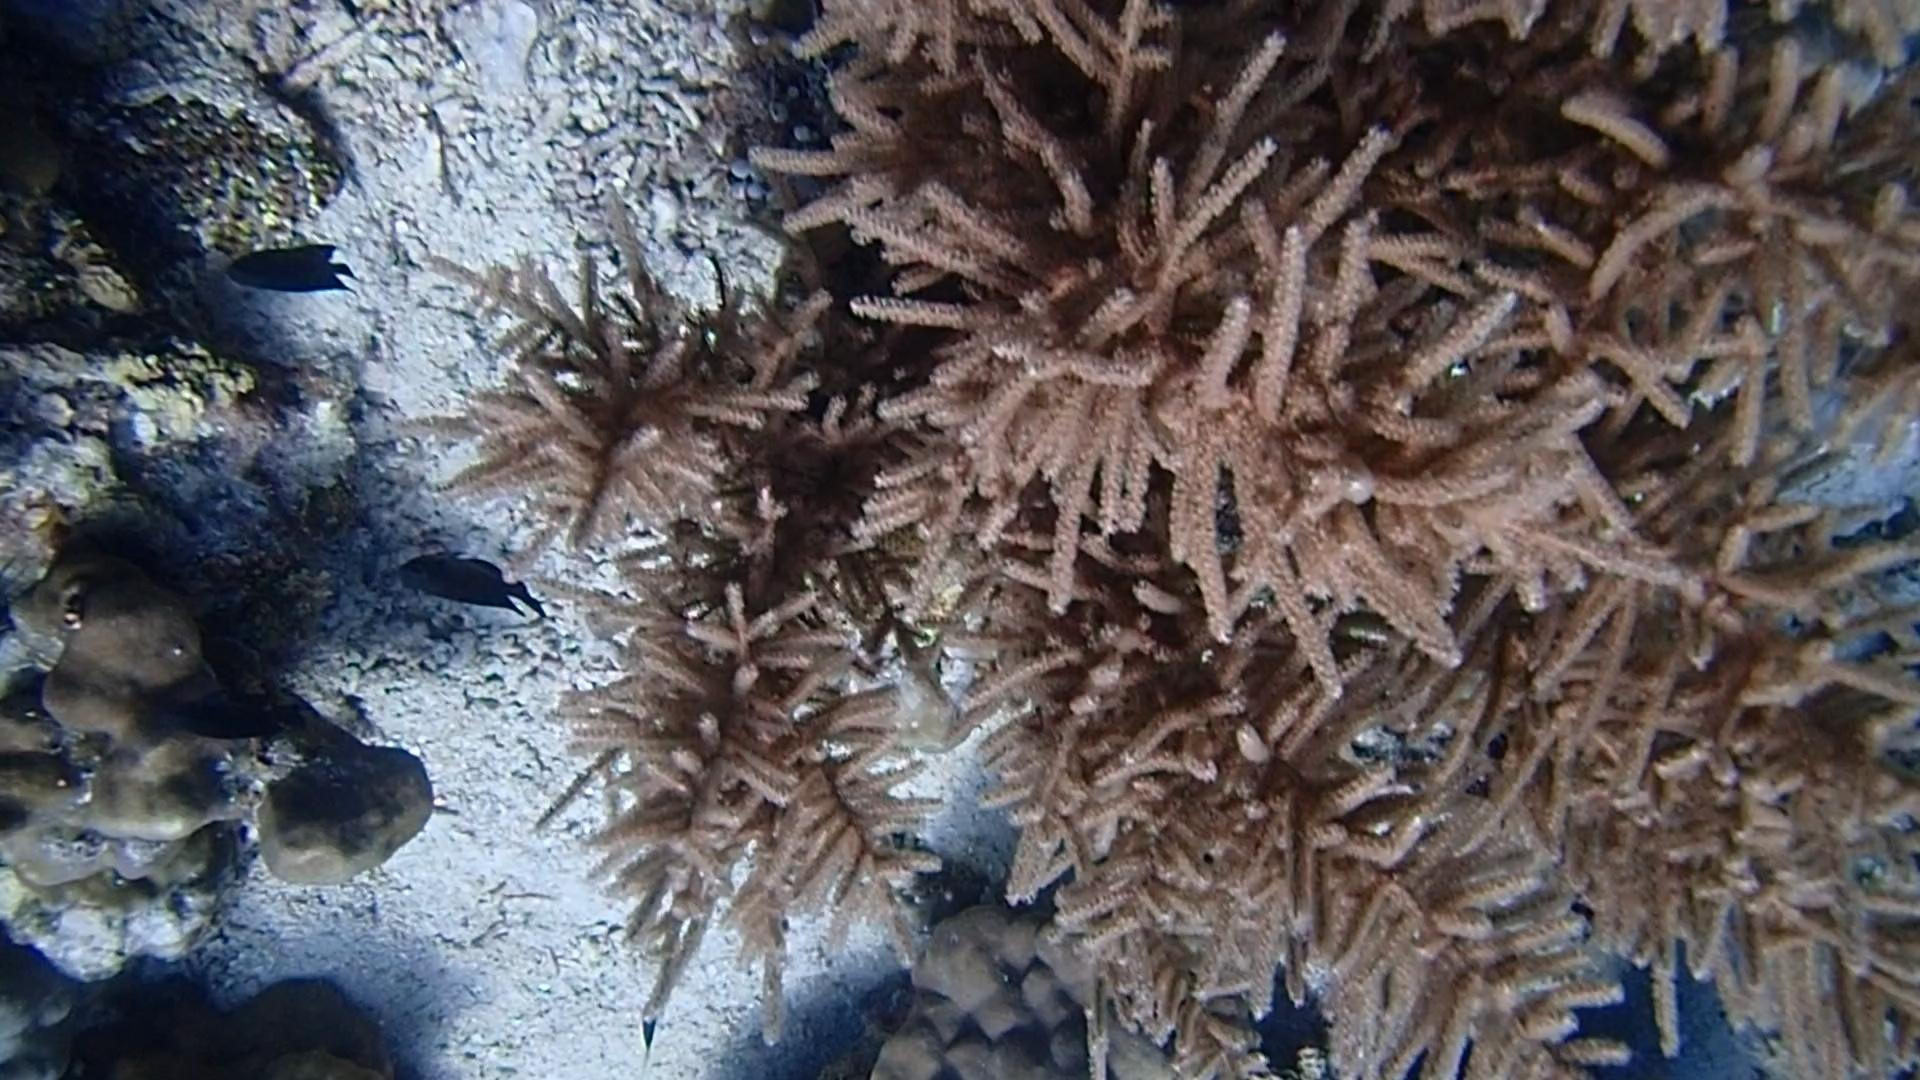Dark Fish: (388, 537, 560, 634), (225, 233, 365, 306), (169, 680, 311, 750)
Yellow Tail: (628, 1009, 665, 1071)
